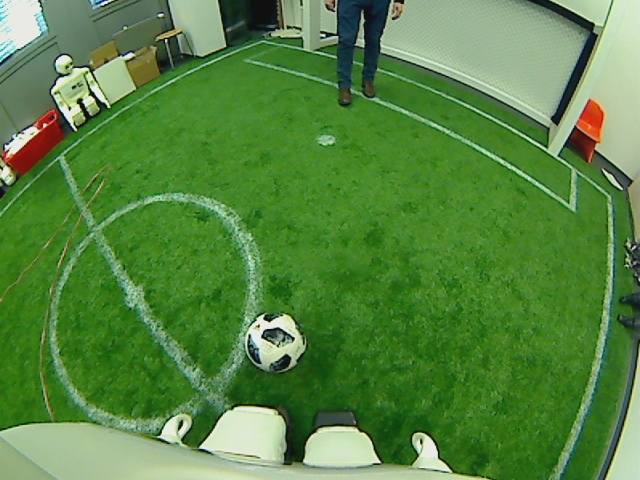ball: (243, 310, 307, 374)
